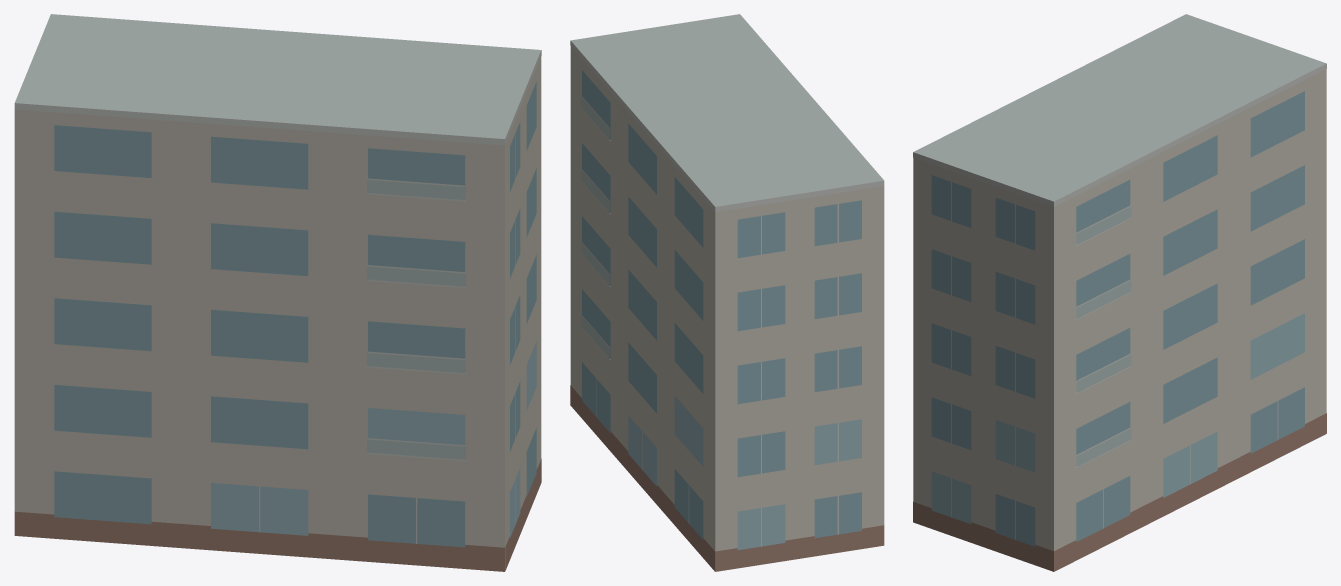
File: survey-upis-32842806.glb
3 renders of one model, left to right at view 1: azimuth 30°, elevation 25°; view 2: azimuth 150°, elevation 25°; view 3: azimuth 270°, elevation 25°, orthographic. The views are drawn at different scales.
Parts seen in each view (by area): view 1: survey-upis-32842806.tmp; view 2: survey-upis-32842806.tmp; view 3: survey-upis-32842806.tmp.
Boxes of the visible parts, x1=… form: survey-upis-32842806.tmp: x1=14, y1=14, x2=541, y2=571; survey-upis-32842806.tmp: x1=570, y1=14, x2=884, y2=571; survey-upis-32842806.tmp: x1=913, y1=14, x2=1326, y2=571.
Bounding box in the file's own units: 18.27 × 16.8 × 17.02.
